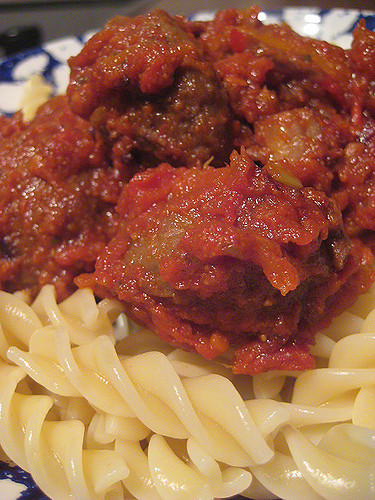meatballs: (101, 160, 342, 319), (79, 26, 245, 154), (3, 118, 119, 281)
plain spaghetti: (36, 344, 311, 486)
